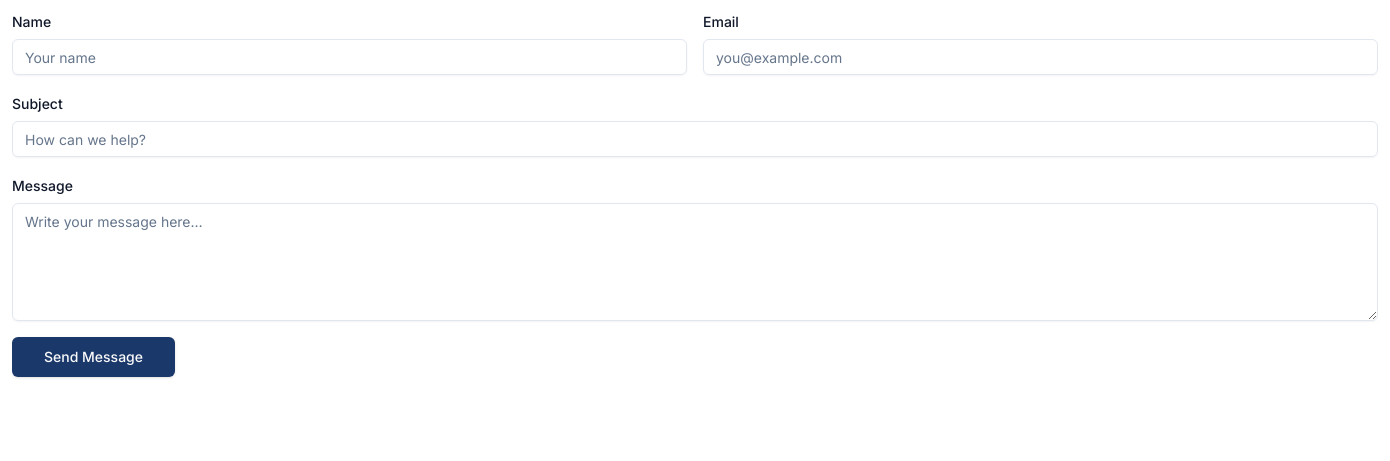
Test case: ContactForm › error clearing on change › clears the email error when the user types into the email field
The width and height of the screenshot is (1390, 461).
Click the button "Send Message": click(94, 357) [12,337,175,377]
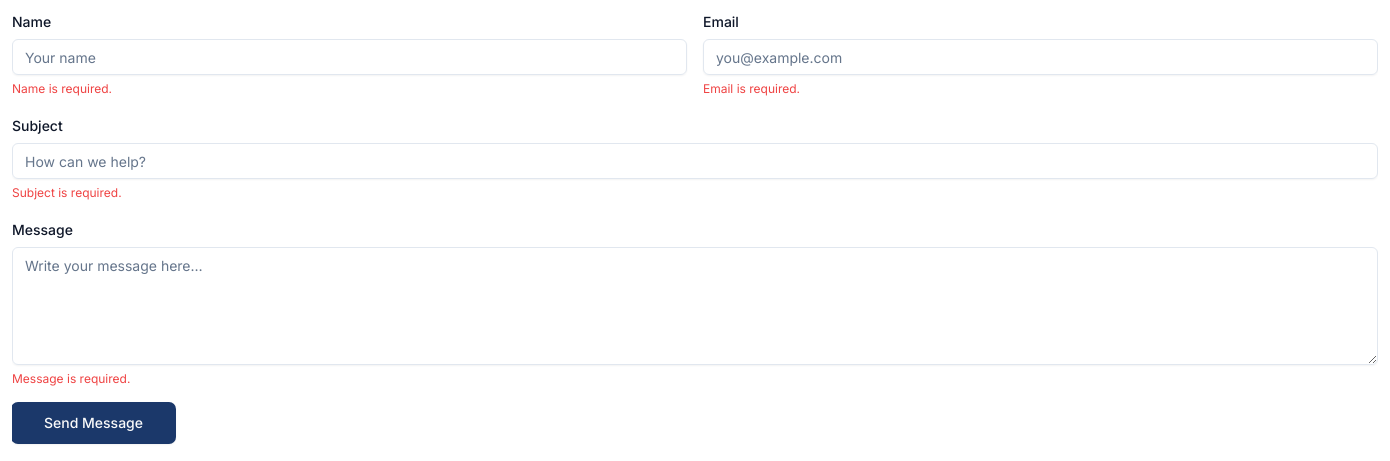
Check: the text "Email is required." is shown, box [703,81,800,96]
In the field labelled "Email": (1040, 57) [703,39,1378,75], type "a"
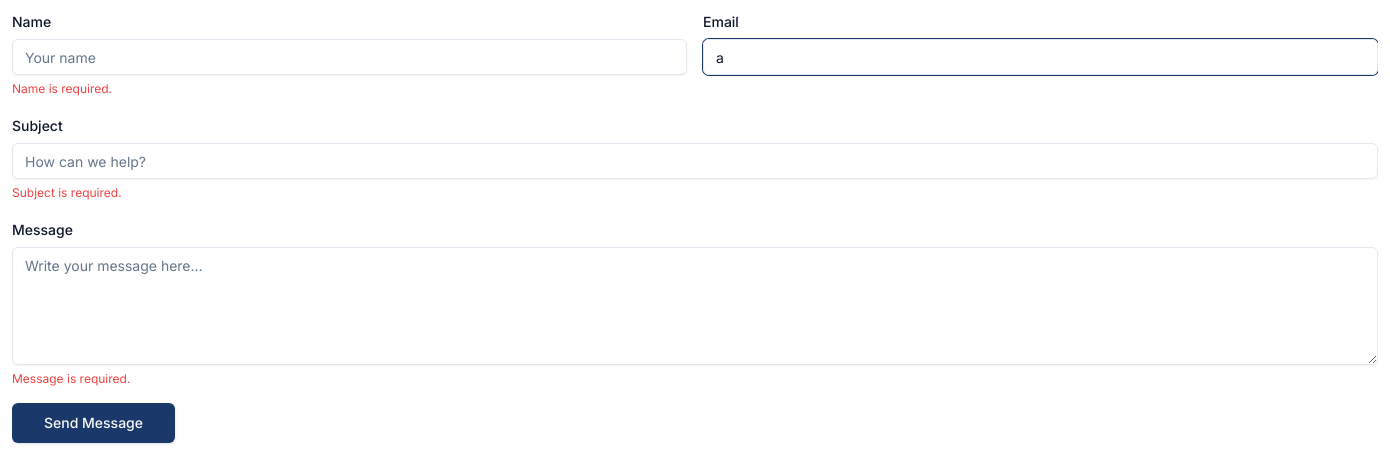
Check: the text "Email is required." is gone
